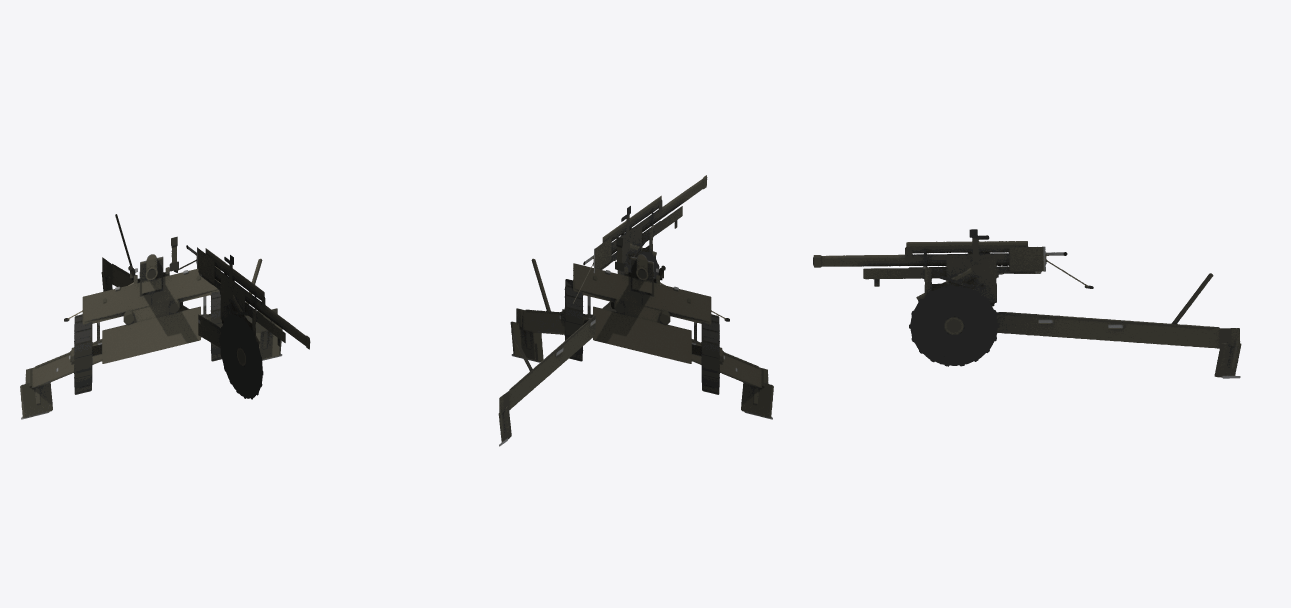
The model's file is m2a1_105_pjas_web_mobil_bb.glb.
3 renders of one model, left to right at view 1: azimuth 30°, elevation 25°; view 2: azimuth 150°, elevation 25°; view 3: azimuth 270°, elevation 25°, orthographic. The views are drawn at different scales.
Visible parts, largest first — view 1: m2a1_105_pjas_web_mobil_bb; view 2: m2a1_105_pjas_web_mobil_bb; view 3: m2a1_105_pjas_web_mobil_bb.
Boxes of the visible parts, x1,y1,x2,y2 form: m2a1_105_pjas_web_mobil_bb: (20, 214, 310, 419); m2a1_105_pjas_web_mobil_bb: (498, 175, 773, 446); m2a1_105_pjas_web_mobil_bb: (813, 229, 1241, 378).
Size of the model in its own units: 4.85 by 5.2 by 5.2.
1 material, 1 textured.
